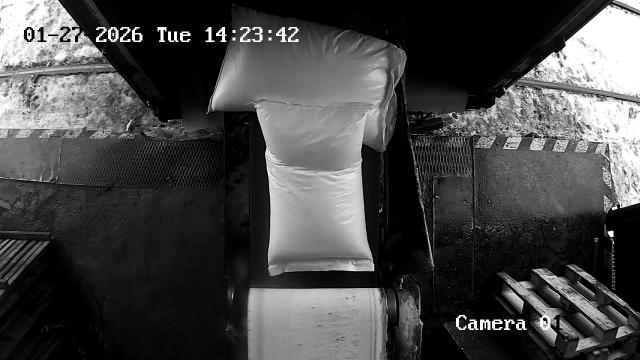bag: (206, 2, 406, 154), (252, 99, 375, 276)
